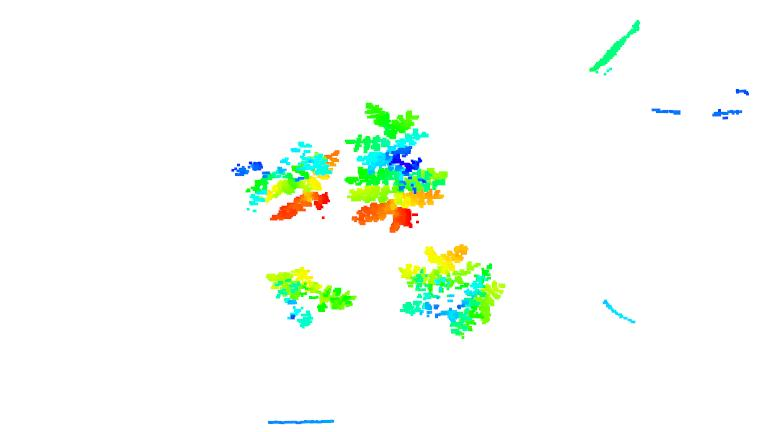chickpea: (231, 138, 341, 229), (341, 158, 457, 239), (397, 274, 511, 348), (344, 101, 462, 171), (264, 263, 355, 329), (399, 233, 476, 290)
